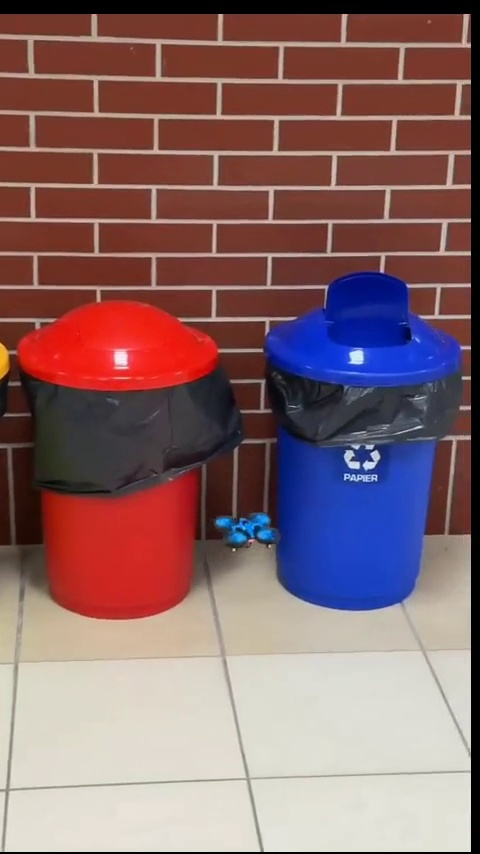drone: (214, 513, 283, 550)
